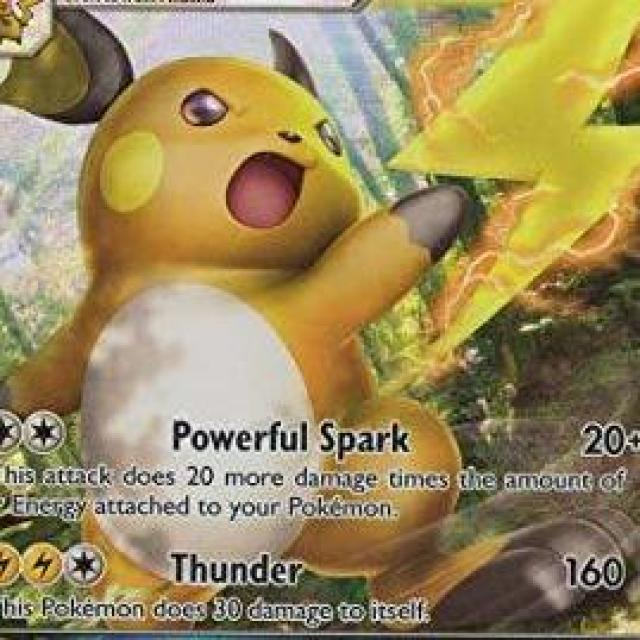Raichu: (24, 37, 461, 570)
